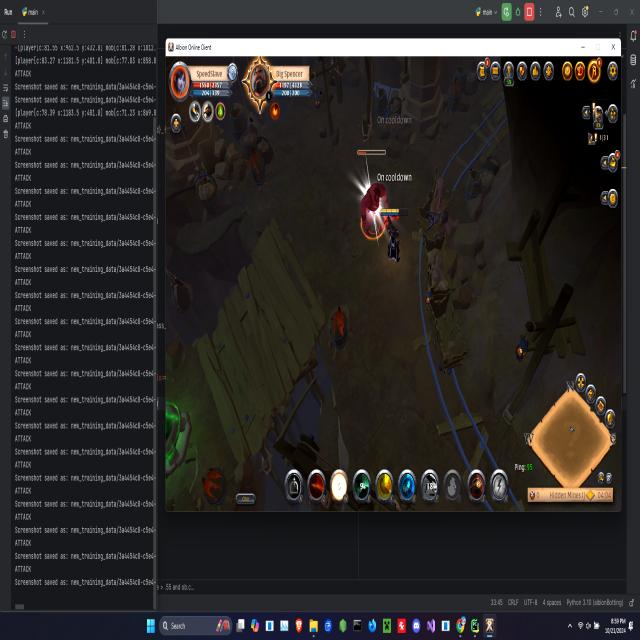ore: (353, 145, 390, 245)
red: (381, 203, 412, 260)
